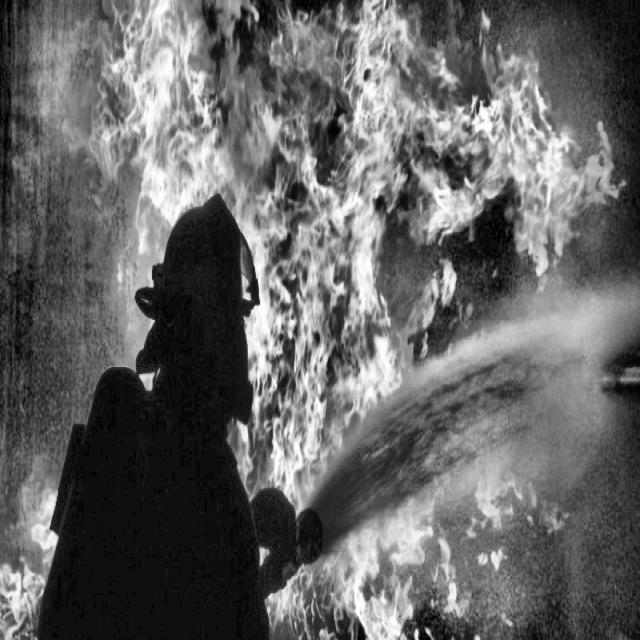fire: (53, 0, 564, 640)
